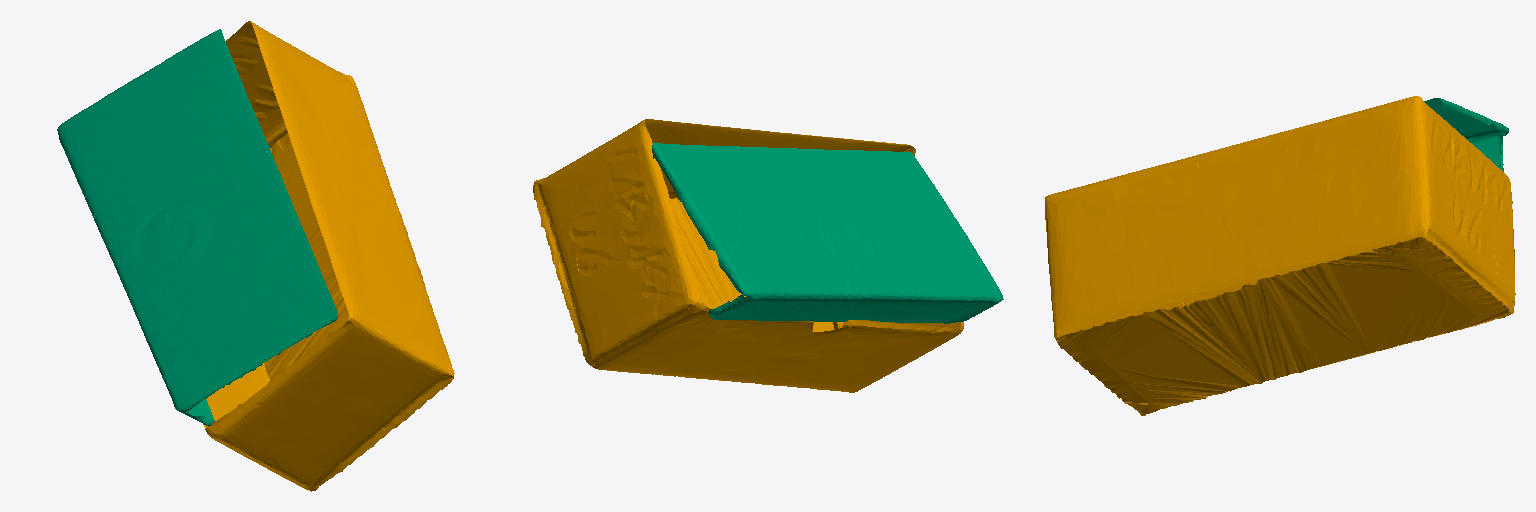
The robot description file, URDF, robot "cardboardbox":
<?xml version="1.0"?>
<robot name="cardboardbox">
  <link name ="rb0">
    <visual>
      <origin xyz='0.027991 0.002083 -0.156975' rpy='-2.399431 -0.384769 1.313204'/>
      <geometry>
        <mesh filename="package://articulated_objects_db/data/objects/cardboardbox/meshes/cardboardbox_bottom.obj"  scale="1 1 1" />
      </geometry>
    </visual>
  </link>
  <joint name="j_0_1" type="revolute">
    <parent link="rb0"/>
    <child link="rb1"/>
    <origin xyz="-0.0740324902776 -0.0811237850834 -0.051448977489" rpy="0 0 0 "/>
    <axis xyz="-0.198301481855 -0.918421021344 -0.342314694174"/>
    <limit effort="30" velocity="1.0" lower="-3.1416" upper="3.1416"/>
  </joint>
  <joint name="j_0_fixed" type="fixed">
    <parent link="rb1"/>
    <child link="rb1_marker"/>
      <origin xyz="-0.0717372663721 0.0322477431981 -0.0446385694863" rpy="0.73426158124 0.29745199739 -1.75622285427"/>
    <limit effort="30" velocity="1.0" lower="-3.1416" upper="3.1416"/>
  </joint>
  <link name ="rb1">
  </link>
  <link name ="rb1_marker">
    <visual>
      <origin xyz='-0.070089 0.045651 -0.109497' rpy='-1.790975 -0.022628 3.089036'/>
      <geometry>
        <mesh filename="package://articulated_objects_db/data/objects/cardboardbox/meshes/cardboardbox_top.obj"  scale="1 1 1" />
      </geometry>
    </visual>
  </link>
</robot>

--- Facts derived from the render (not from the file) ---
3 views of the same robot in one strip: view 1: azimuth 30°, elevation 25°; view 2: azimuth 150°, elevation 25°; view 3: azimuth 270°, elevation 25° (orthographic).
Model cardboardbox with 3 links and 2 joints (1 revolute, 1 fixed), rooted at rb0, posed every joint at zero.
Links seen in each view (by area): view 1: rb1_marker, rb0; view 2: rb0, rb1_marker; view 3: rb0, rb1_marker.
Link boxes in pixels (x1,y1,x2,y2): rb1_marker: (57,29,337,425); rb0: (203,21,454,491); rb0: (533,119,963,392); rb1_marker: (652,142,1003,323); rb0: (1045,96,1515,415); rb1_marker: (1424,98,1508,171).
Size in the robot's own frame: 0.1925 by 0.2417 by 0.2016 metres.
Meshes: 2 distinct files referenced, 2 mesh visuals loaded (2 OBJ).